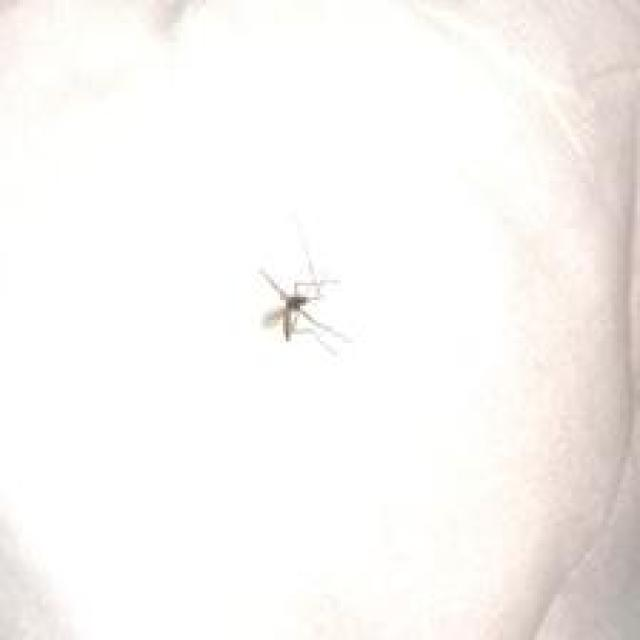Culex: (254, 254, 349, 354)
